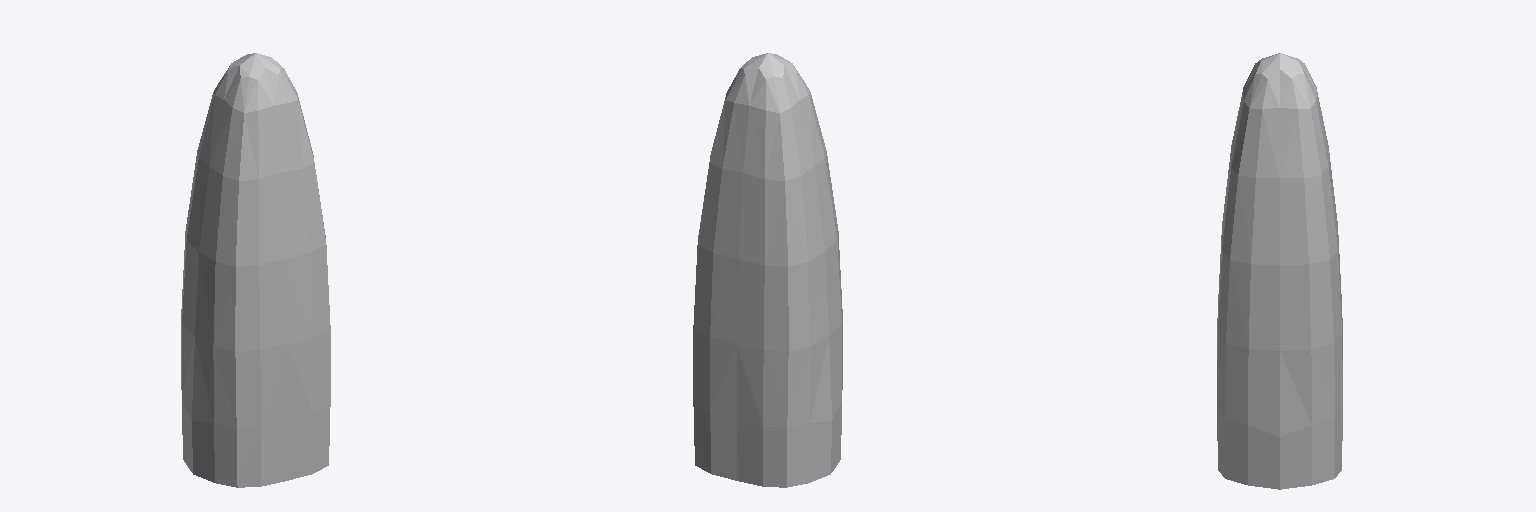
The model's file is StandingStone.obj.
The picture shows the model from 3 angles: view 1: azimuth 30°, elevation 25°; view 2: azimuth 150°, elevation 25°; view 3: azimuth 270°, elevation 25°; orthographic projection.
Parts seen in each view (by area): view 1: Cube; view 2: Cube; view 3: Cube.
Part boxes in pixels (left/top/right/bottom): Cube: left=181, top=53, right=330, bottom=487; Cube: left=693, top=53, right=842, bottom=487; Cube: left=1217, top=53, right=1342, bottom=489.
Bounding box in the file's own units: 2.4 × 7.26 × 2.04.